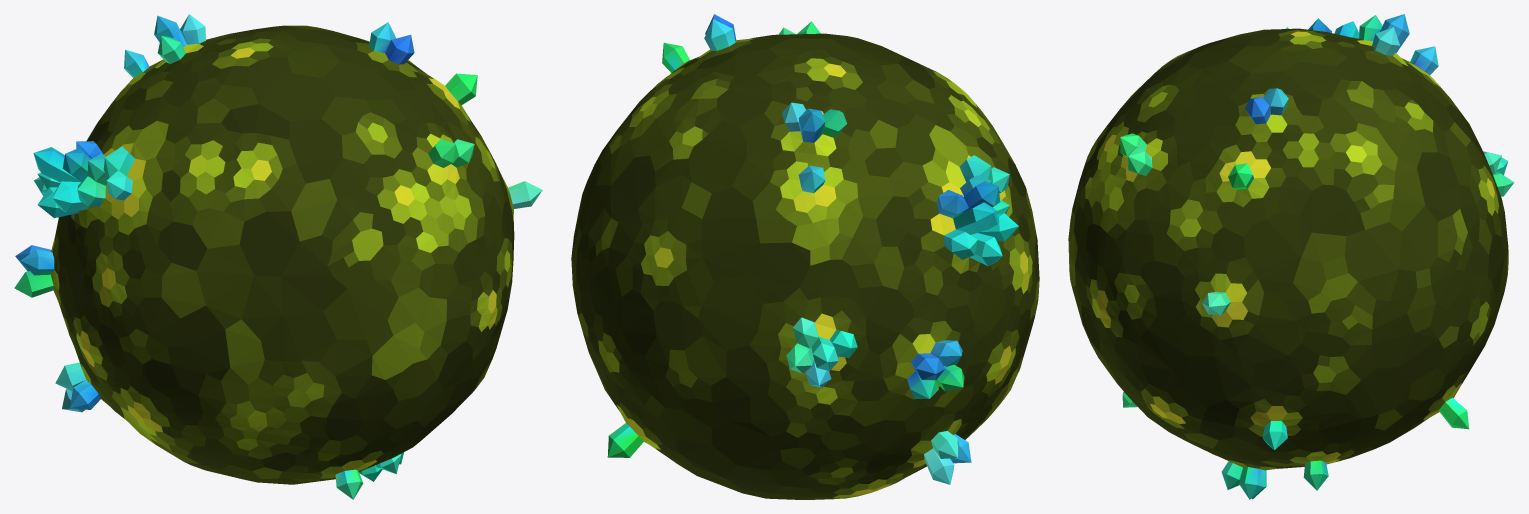
File: Crystal_planet_6.fbx
3 views of the same model, side by side, from view 1: azimuth 30°, elevation 25°; view 2: azimuth 150°, elevation 25°; view 3: azimuth 270°, elevation 25° (orthographic). The views are drawn at different scales.
Parts seen in each view (by area): view 1: file6; view 2: file6; view 3: file6.
Boxes of the visible parts, x1,y1,x2,y2 form: file6: (14,14,542,499); file6: (571,14,1039,499); file6: (1068,14,1514,499).
Bounding box in the file's own units: 2.19 × 2.13 × 2.03.
